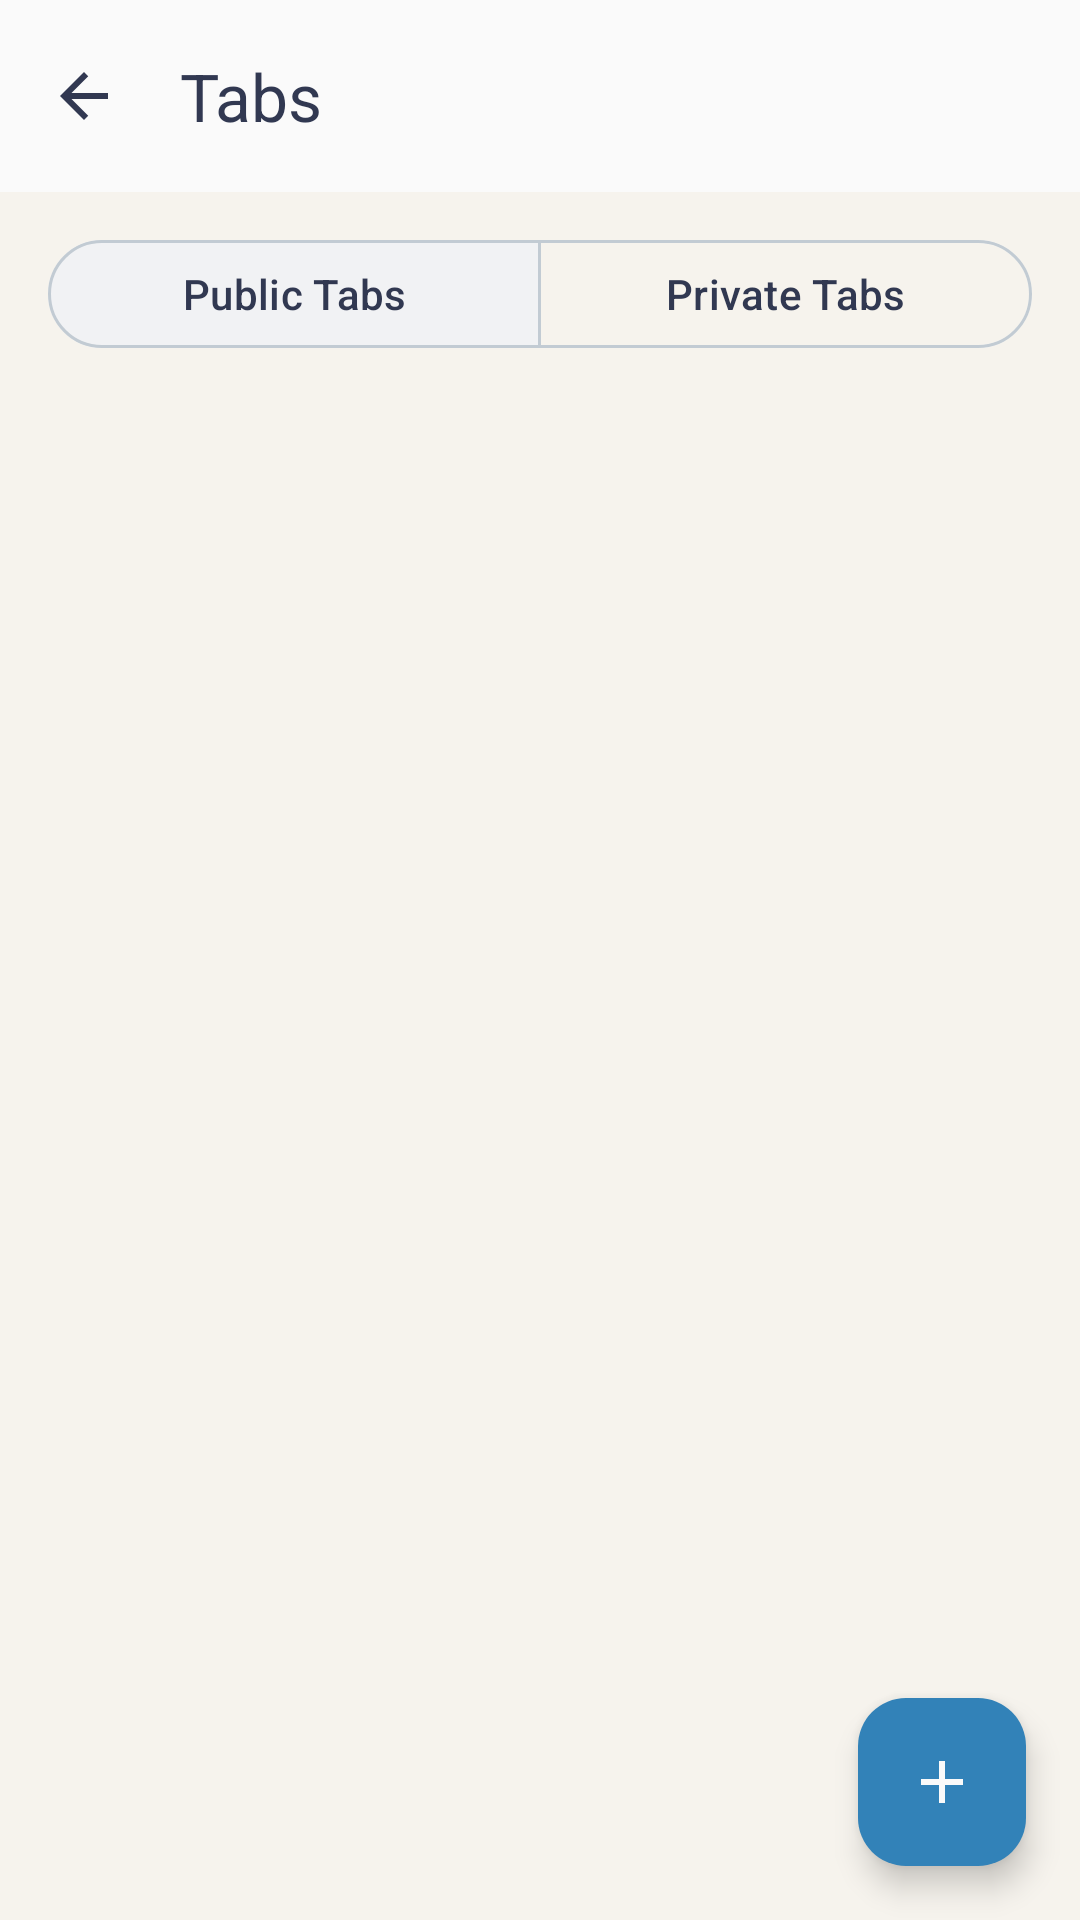

Icon click points for this 1080px x 1920px phone screenshot, format point (x, y):
New Tab: point (942, 1782)
